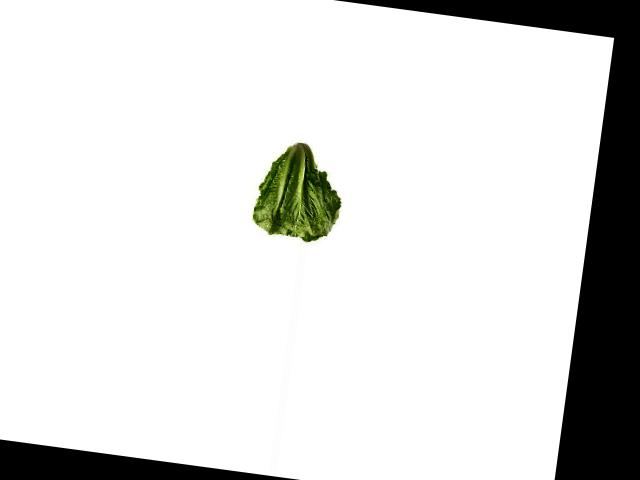lettuce: (253, 133, 352, 247)
